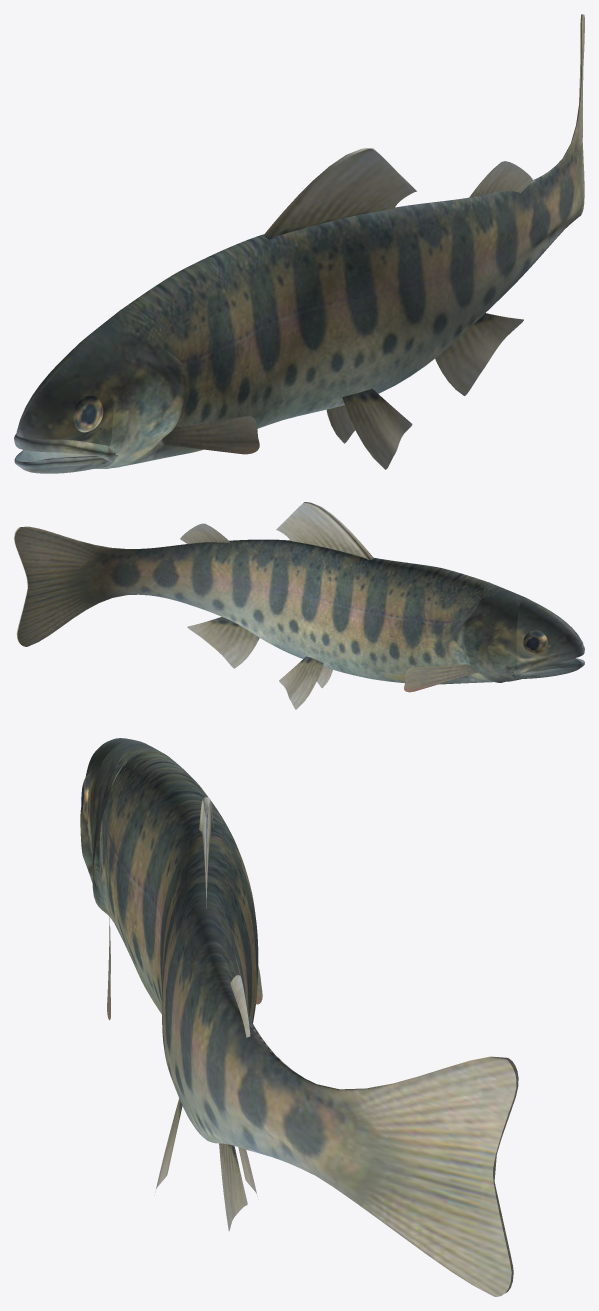
Rendered from trout.obj.
3 views of the same model, one above another, from view 1: azimuth 30°, elevation 25°; view 2: azimuth 150°, elevation 25°; view 3: azimuth 270°, elevation 25° (orthographic). The views are drawn at different scales.
Visible parts, largest first — view 1: Part body, Part gills, Part dosalFinMain, Part Head, Part analFin, Part ventralFin-L, Part pectoraFin-L, Part Lip-Upper, Part aburaFin, Part Part-chin Curved_Surface(6), Part Part-chin Lip-Under, Part ventralFin-R; view 2: Part body, Part gills, Part dosalFinMain, Part Head, Part analFin, Part pectoraFin-R, Part ventralFin-R, Part aburaFin, Part Lip-Upper, Part Part-chin Curved_Surface(6), Part Part-chin Lip-Under; view 3: Part body, Part gills, Part analFin, Part Head, Part dosalFinMain.
Boxes of the visible parts, left/top/right/bottom form: Part body: left=119, top=14, right=584, bottom=466; Part gills: left=80, top=307, right=186, bottom=468; Part dosalFinMain: left=263, top=148, right=416, bottom=239; Part Head: left=16, top=341, right=113, bottom=446; Part analFin: left=435, top=313, right=523, bottom=395; Part ventralFin-L: left=342, top=388, right=412, bottom=469; Part pectoraFin-L: left=158, top=416, right=259, bottom=454; Part Lip-Upper: left=14, top=434, right=115, bottom=462; Part aburaFin: left=469, top=161, right=532, bottom=197; Part Part-chin Curved_Surface(6): left=17, top=450, right=118, bottom=473; Part Part-chin Lip-Under: left=14, top=450, right=106, bottom=468; Part ventralFin-R: left=326, top=405, right=355, bottom=443; Part body: left=14, top=526, right=493, bottom=684; Part gills: left=461, top=582, right=523, bottom=682; Part dosalFinMain: left=276, top=502, right=373, bottom=560; Part Head: left=516, top=597, right=583, bottom=666; Part analFin: left=187, top=617, right=259, bottom=668; Part pectoraFin-R: left=404, top=664, right=477, bottom=692; Part ventralFin-R: left=279, top=656, right=323, bottom=709; Part aburaFin: left=180, top=523, right=230, bottom=543; Part Lip-Upper: left=514, top=646, right=584, bottom=675; Part Part-chin Curved_Surface(6): left=511, top=658, right=582, bottom=679; Part Part-chin Lip-Under: left=520, top=658, right=584, bottom=676; Part body: left=99, top=750, right=516, bottom=1296; Part gills: left=89, top=740, right=169, bottom=921; Part analFin: left=219, top=1143, right=247, bottom=1231; Part Head: left=85, top=738, right=138, bottom=869; Part dosalFinMain: left=199, top=797, right=213, bottom=908.
Size of the model in its own units: 10.1 by 4.09 by 4.11.
